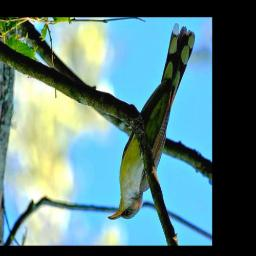Cuckoo: (108, 25, 195, 220)
